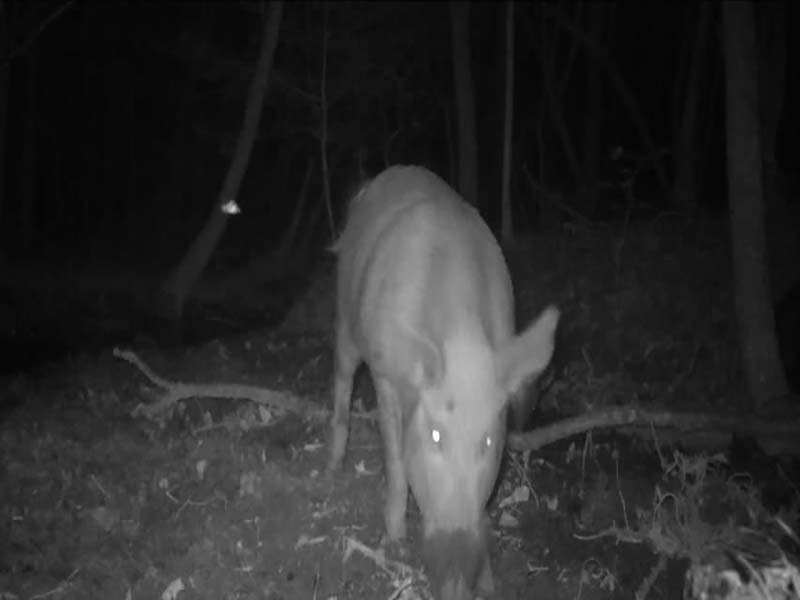cinghiale: (329, 163, 555, 590)
